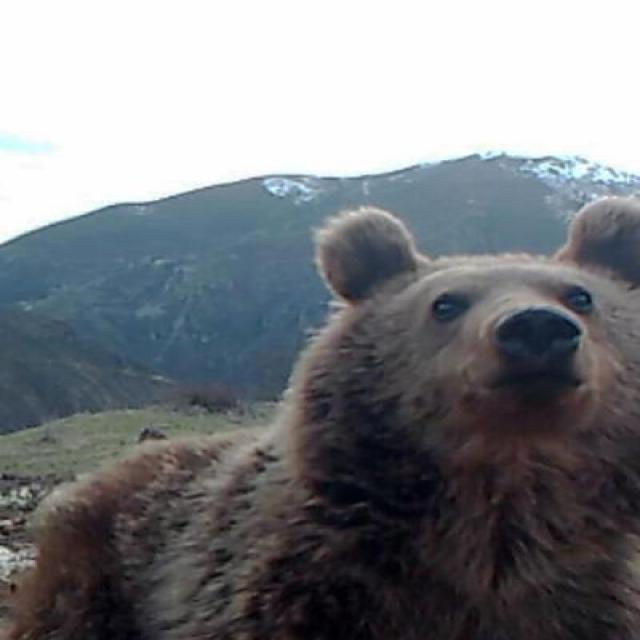Bear: (0, 198, 640, 640)
